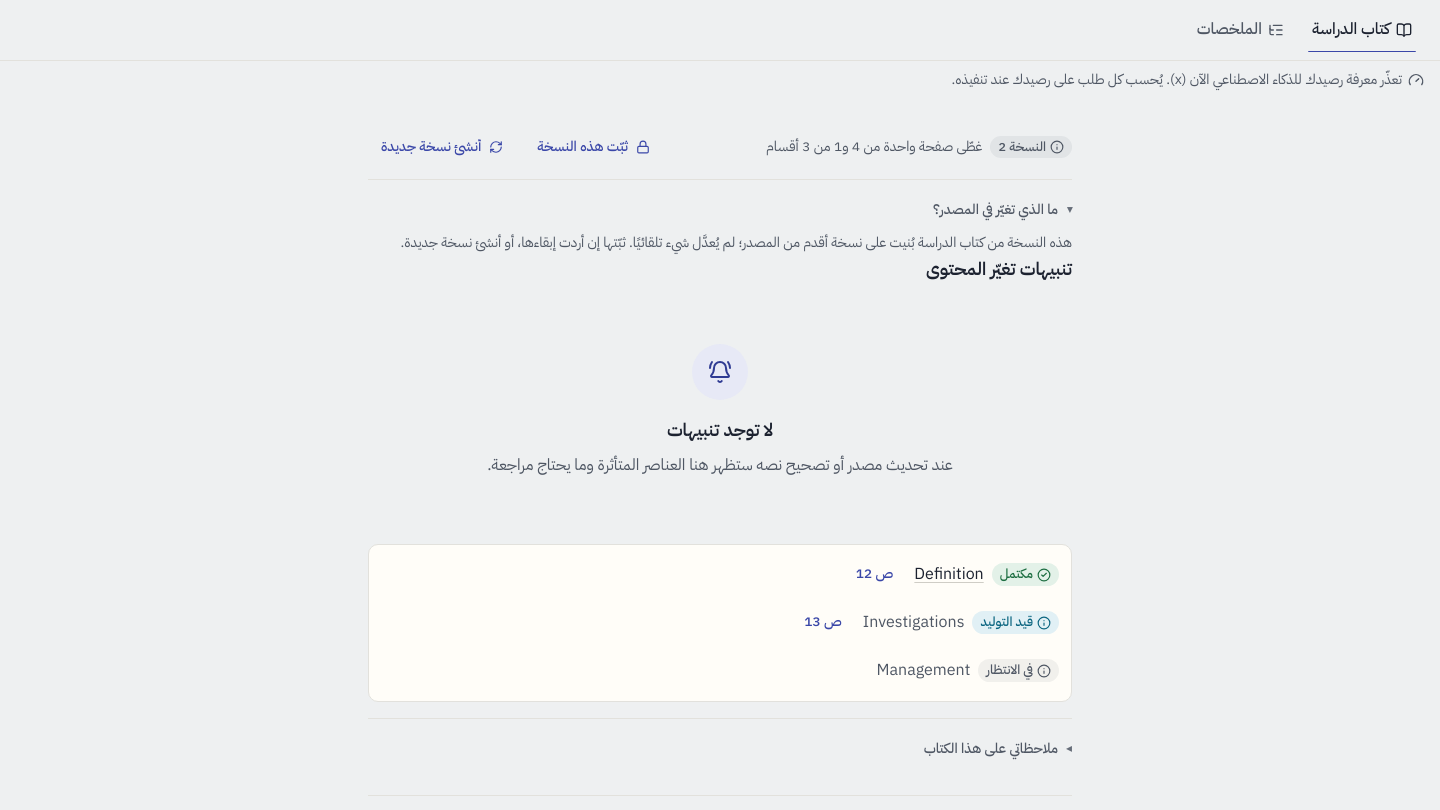
Test: StudyBookPane › a stale book says the source changed and shows the change alerts; freeze is explicit
This screenshot has width=1440, height=810.
Expected: the heading "ما الذي تغيّر في المصدر؟" is shown, [933, 200, 1058, 220]
Click the button "ثبّت هذه النسخة" at (594, 147), box [524, 131, 663, 163]
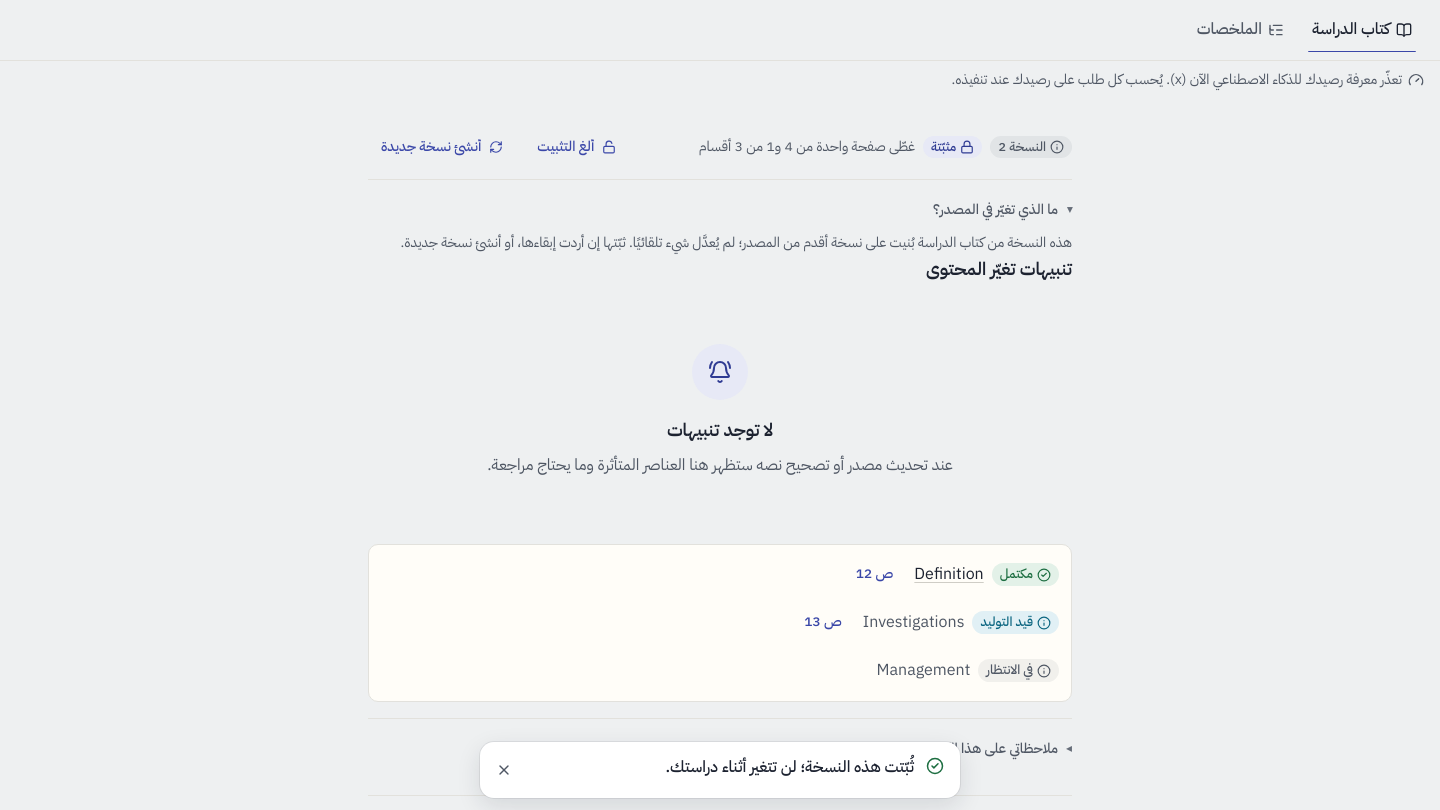
Expected: the button "ألغِ التثبيت" is shown, [524, 131, 629, 163]
